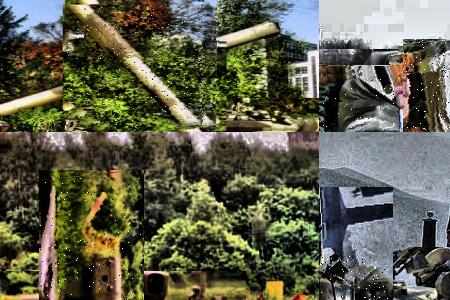tanks: (68, 6, 207, 127), (320, 76, 425, 133), (176, 42, 219, 132), (404, 64, 450, 133), (58, 259, 120, 300), (320, 257, 374, 300), (1, 123, 10, 133), (321, 231, 322, 263)
